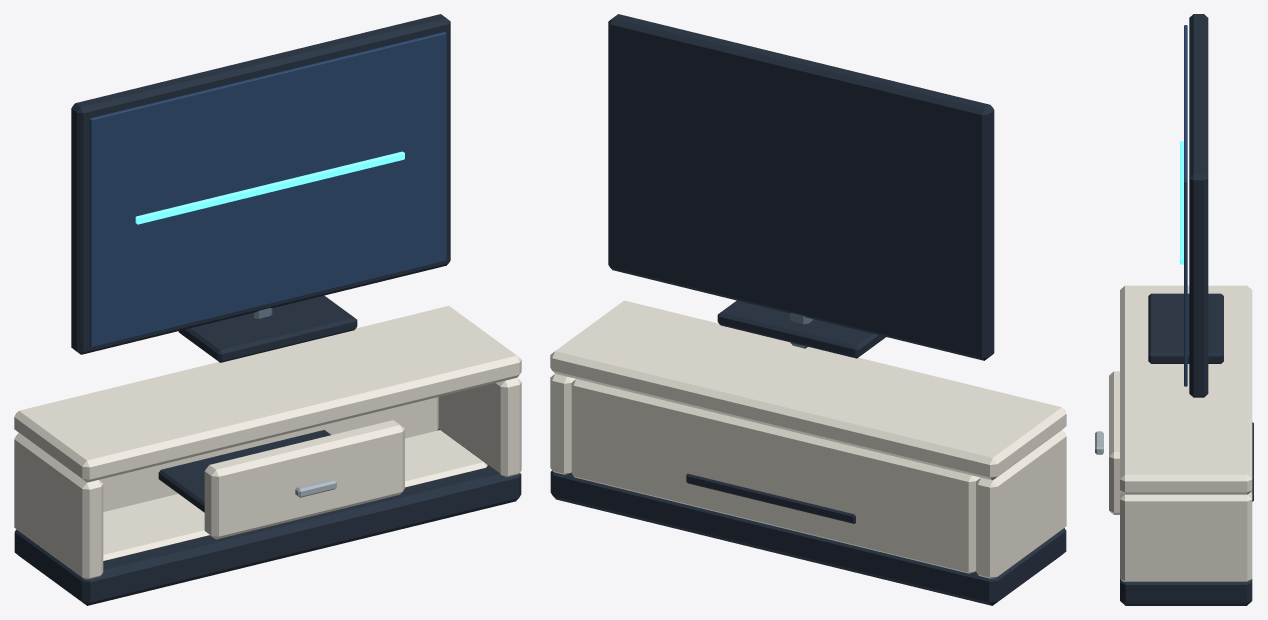
Rendered from living_06.glb.
The picture shows the model from 3 angles, left to right: view 1: azimuth 30°, elevation 25°; view 2: azimuth 150°, elevation 25°; view 3: azimuth 270°, elevation 25°; orthographic projection. The views are drawn at different scales.
Parts seen in each view (by area): view 1: Display, Top, Base, DrawerFace, ScreenFrame, Side (×2), Bottom, TVFoot, Back, DisplayLine, DrawerBase; view 2: ScreenFrame, Top, Back, Base, Side (×2), TVFoot, DrawerBase; view 3: Top, Side, ScreenFrame, TVFoot, Base, DrawerFace, Display, DisplayLine.
Part boxes in pixels (x1,y1,x2,y2): Display: [89, 32, 446, 347]; Top: [14, 306, 521, 482]; Base: [14, 429, 521, 605]; DrawerFace: [204, 420, 404, 539]; ScreenFrame: [71, 14, 450, 354]; Side (×2): [14, 378, 521, 579]; Bottom: [103, 430, 487, 560]; TVFoot: [178, 295, 357, 362]; Back: [99, 397, 438, 511]; DisplayLine: [135, 151, 404, 224]; DrawerBase: [158, 430, 330, 512]; ScreenFrame: [608, 14, 994, 360]; Top: [550, 300, 1066, 480]; Back: [571, 379, 980, 573]; Base: [550, 471, 1066, 605]; Side (×2): [550, 374, 1066, 578]; TVFoot: [717, 300, 885, 358]; DrawerBase: [686, 473, 855, 523]; Top: [1120, 285, 1252, 494]; Side: [1120, 492, 1252, 582]; ScreenFrame: [1189, 14, 1208, 397]; TVFoot: [1148, 293, 1223, 363]; Base: [1120, 579, 1252, 605]; DrawerFace: [1109, 371, 1121, 514]; Display: [1184, 25, 1187, 386]; DisplayLine: [1180, 141, 1183, 264].
Bounding box in the file's own units: 1.45 × 1.46 × 0.504.
